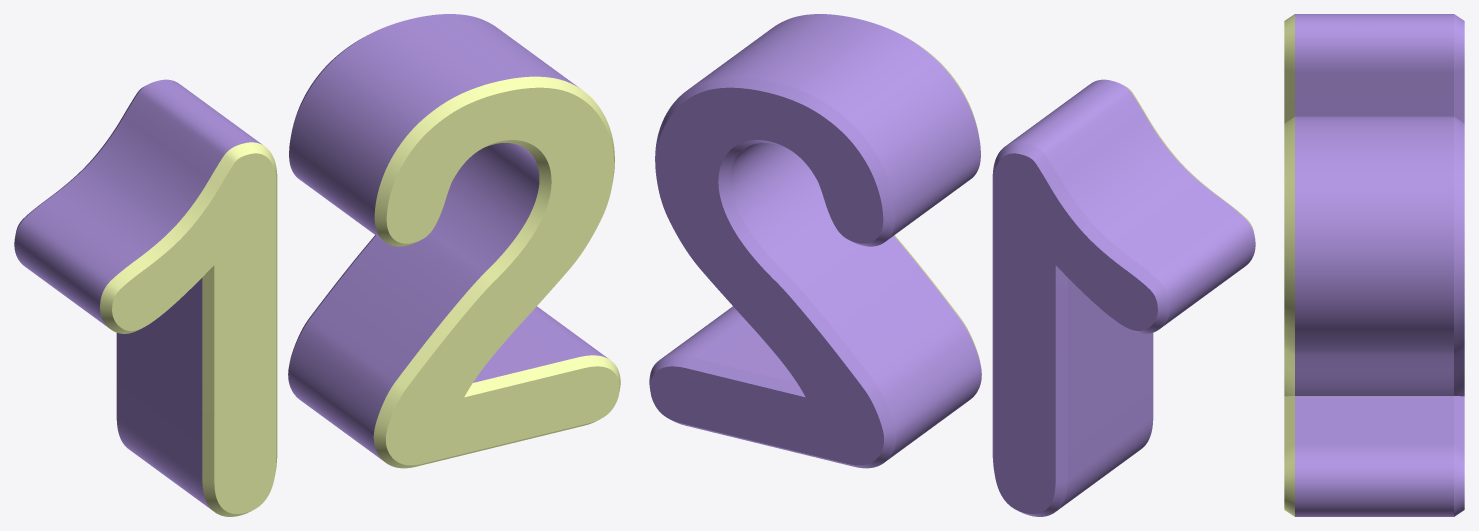
The picture shows the model from 3 angles, left to right: view 1: azimuth 30°, elevation 25°; view 2: azimuth 150°, elevation 25°; view 3: azimuth 270°, elevation 25°; orthographic projection. The views are drawn at different scales.
Parts seen in each view (by area): view 1: Dua Belas_3D; view 2: Dua Belas_3D; view 3: Dua Belas_3D.
Part boxes in pixels (x1=…): Dua Belas_3D: x1=14, y1=14, x2=620, y2=516; Dua Belas_3D: x1=649, y1=14, x2=1255, y2=516; Dua Belas_3D: x1=1284, y1=14, x2=1464, y2=516.
Size of the model in its own units: 241 by 164 by 77.6.
